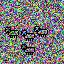sheep: (5, 27, 19, 39), (34, 26, 48, 37), (21, 44, 35, 55), (22, 30, 35, 41)
